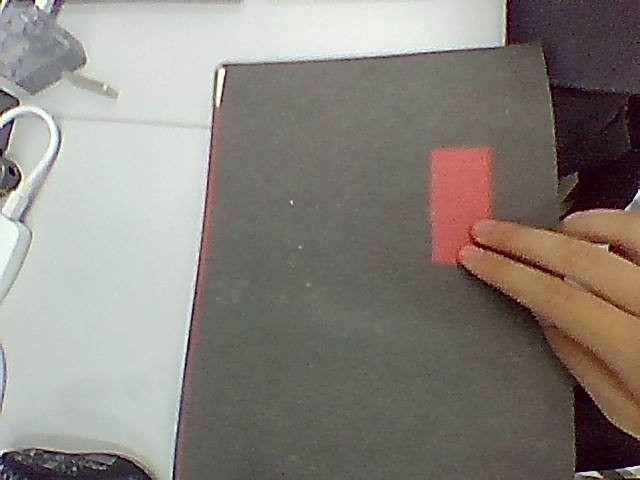card: (430, 146, 491, 263)
